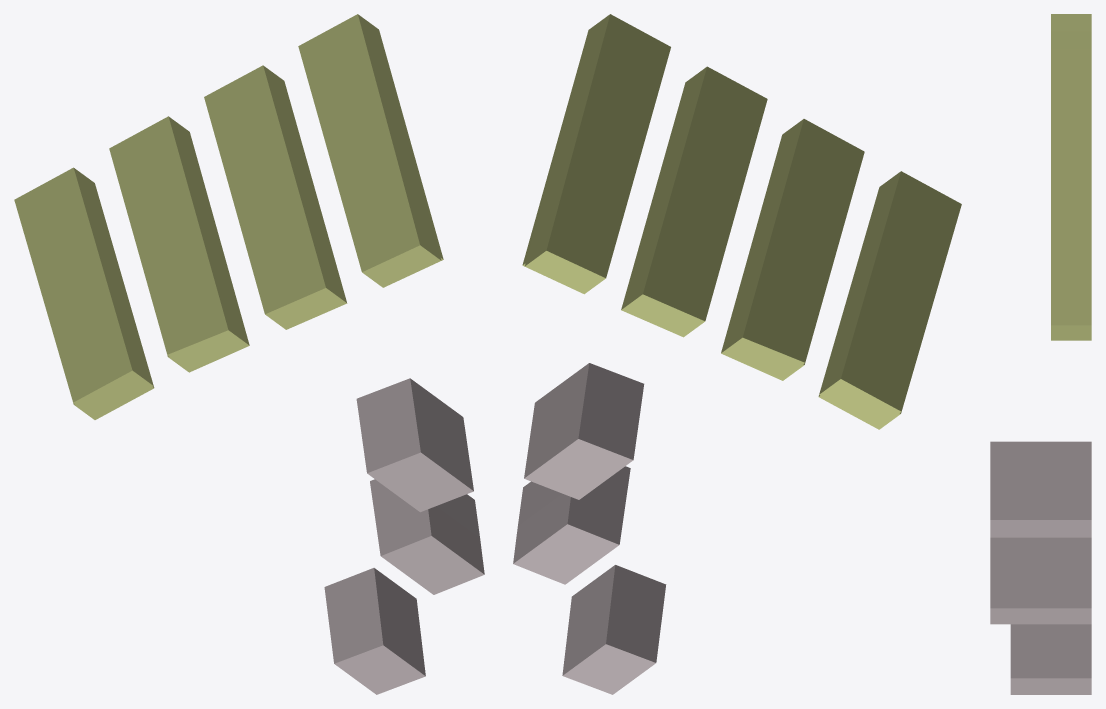
3 renders of one model, left to right at view 1: azimuth 30°, elevation 25°; view 2: azimuth 150°, elevation 25°; view 3: azimuth 270°, elevation 25°, orthographic. The views are drawn at different scales.
Parts seen in each view (by area): view 1: 0_1_3_2_2_2_2_1; view 2: 0_1_3_2_2_2_2_1; view 3: 0_1_3_2_2_2_2_1.
Part boxes in pixels (left/top/right/bottom): 0_1_3_2_2_2_2_1: left=14, top=14, right=484, bottom=694; 0_1_3_2_2_2_2_1: left=513, top=14, right=961, bottom=694; 0_1_3_2_2_2_2_1: left=990, top=14, right=1091, bottom=694.
Size of the model in its own units: 67.93 by 100 by 15.
